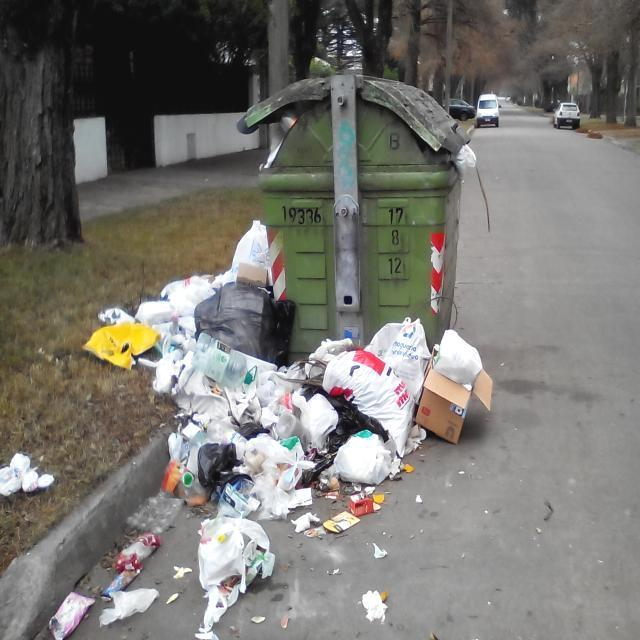high trash: (88, 222, 491, 640)
less trash: (100, 532, 160, 626), (0, 452, 54, 496), (49, 592, 94, 640), (361, 590, 388, 622)
